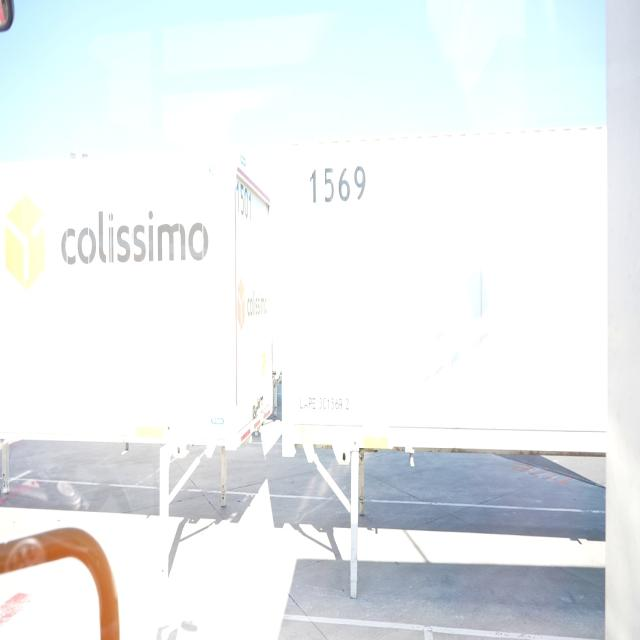Code: (306, 162, 372, 210)
